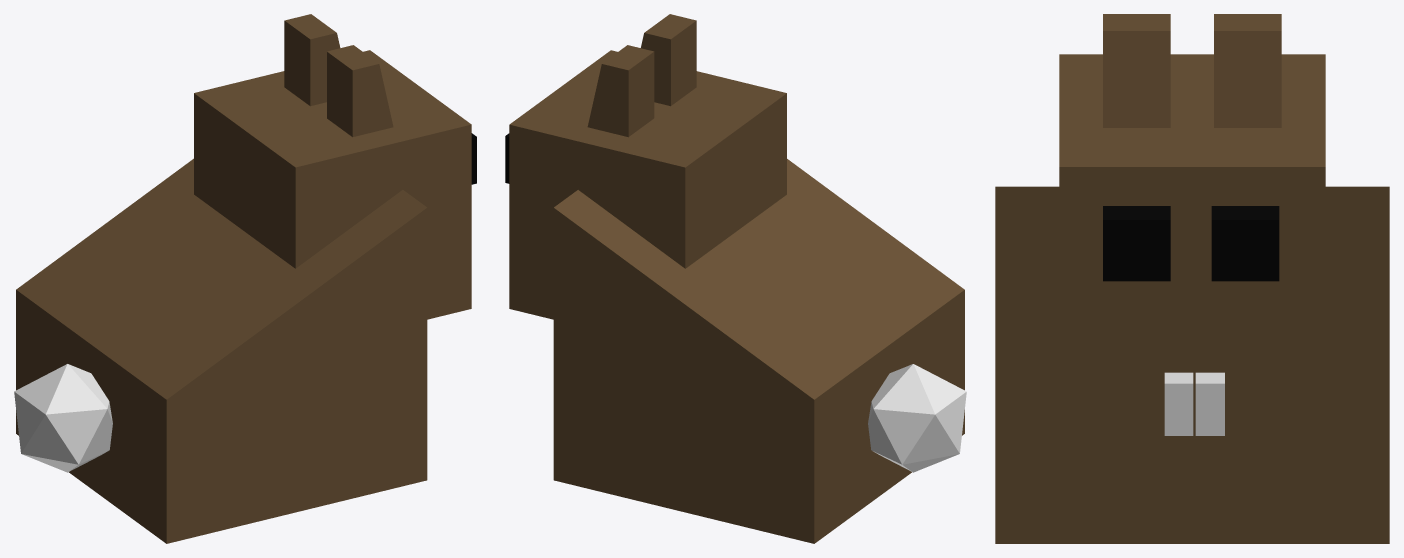
Rendered from Bunny.fbx.
The picture shows the model from 3 angles, left to right: view 1: azimuth 30°, elevation 25°; view 2: azimuth 150°, elevation 25°; view 3: azimuth 270°, elevation 25°; orthographic projection. The views are drawn at different scales.
Visible parts, largest first — view 1: Cube; view 2: Cube; view 3: Cube.
Part boxes in pixels (left/top/right/bottom): Cube: left=14, top=14, right=476, bottom=543; Cube: left=505, top=14, right=966, bottom=543; Cube: left=995, top=14, right=1389, bottom=543.
Size of the model in its own units: 44.99 by 39.56 by 27.81.
